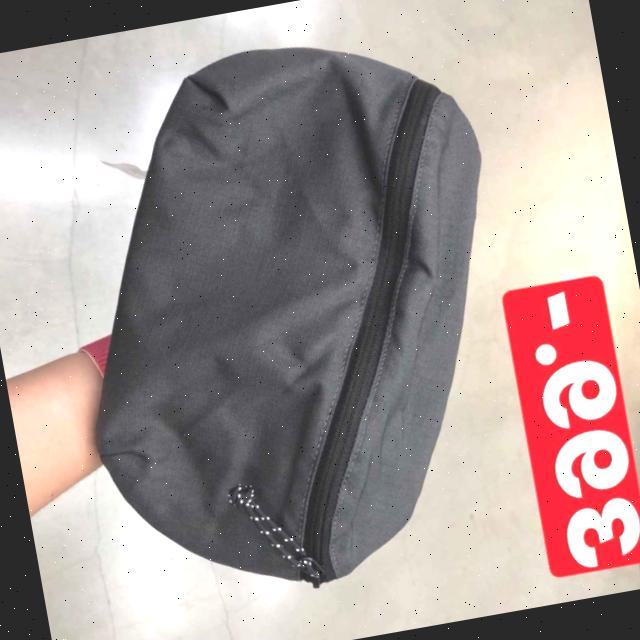handbag: (16, 0, 553, 624)
